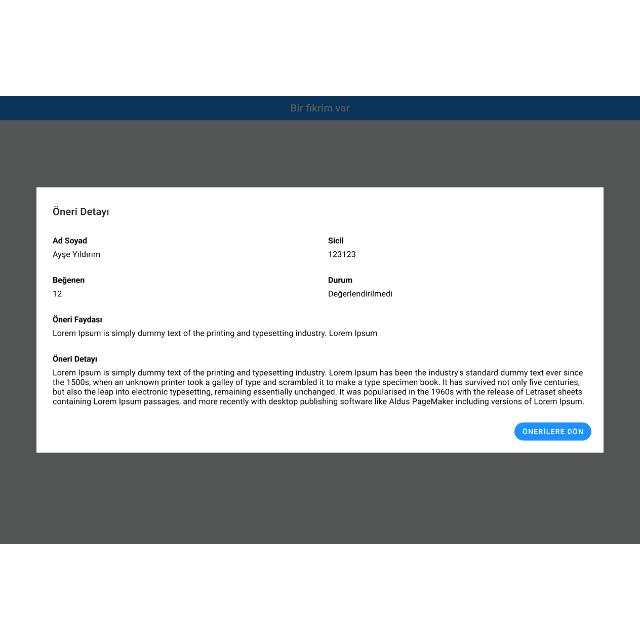QLabel: (50, 367, 586, 408), (49, 328, 378, 339), (50, 203, 110, 220), (327, 288, 395, 300), (51, 314, 104, 326), (522, 427, 584, 437), (50, 249, 100, 259), (51, 236, 89, 247), (328, 249, 357, 259), (50, 277, 86, 285), (326, 276, 352, 286), (49, 288, 65, 298), (328, 236, 344, 244)
VBtn: (514, 422, 592, 442)
VDialog: (38, 188, 604, 454)
